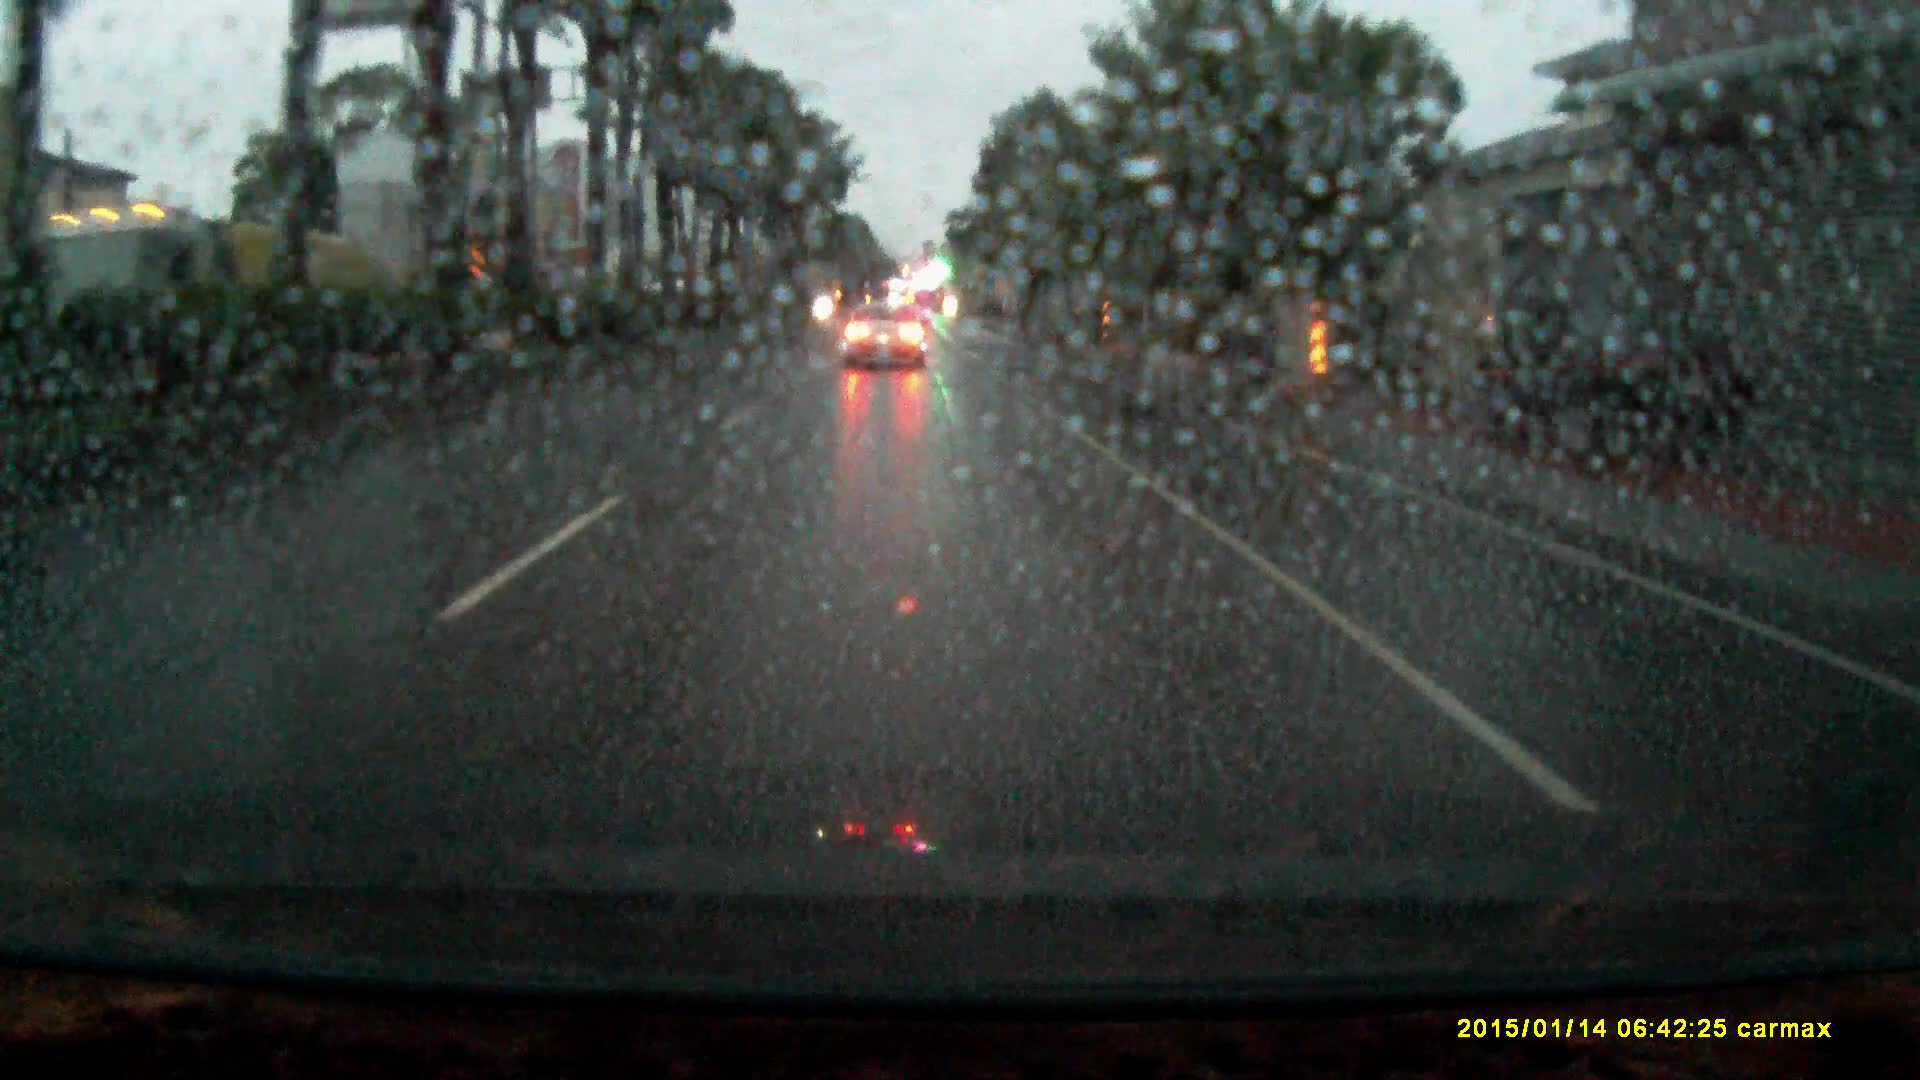vehicle: (36, 208, 388, 375), (1460, 295, 1768, 472), (843, 295, 928, 371)
